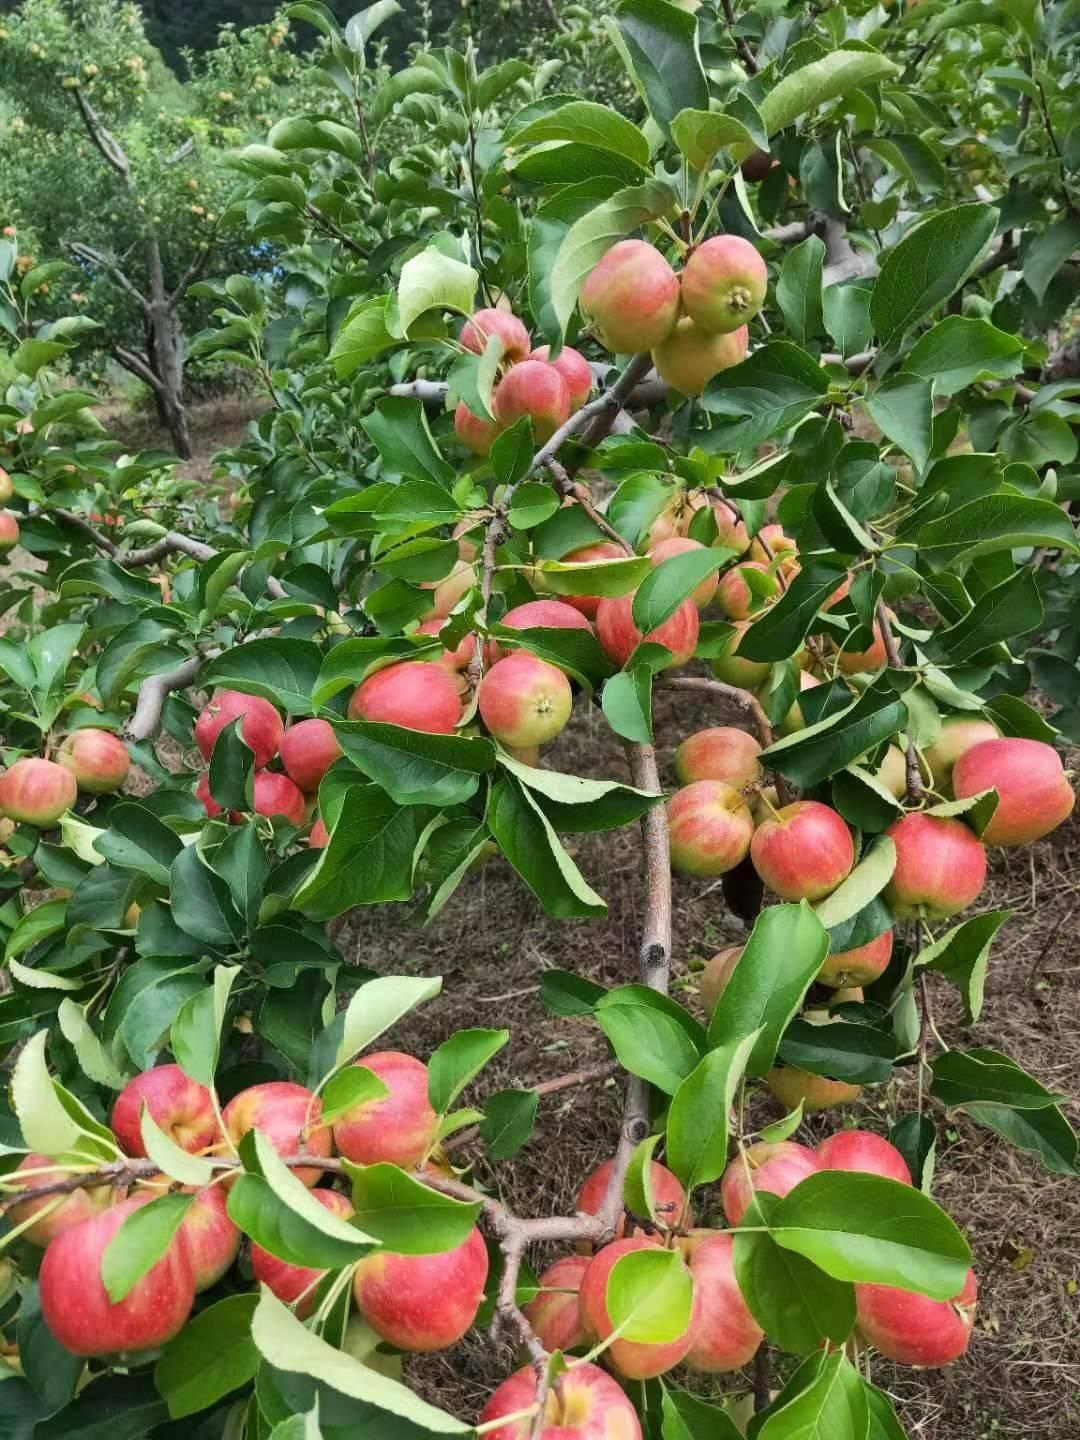apple: (35, 1210, 195, 1359), (354, 1222, 492, 1352), (582, 1239, 703, 1379), (326, 1053, 442, 1178), (472, 1356, 646, 1440), (110, 1062, 230, 1174), (950, 738, 1071, 848), (674, 1233, 766, 1372), (575, 237, 680, 353), (748, 798, 854, 901), (850, 1280, 974, 1367), (883, 811, 989, 913), (476, 651, 572, 749), (723, 1140, 828, 1227), (663, 783, 753, 878), (678, 234, 765, 331), (348, 660, 462, 734), (188, 688, 282, 766), (491, 359, 569, 427), (1, 757, 77, 825), (674, 726, 762, 783), (278, 717, 341, 795), (53, 728, 130, 791)
